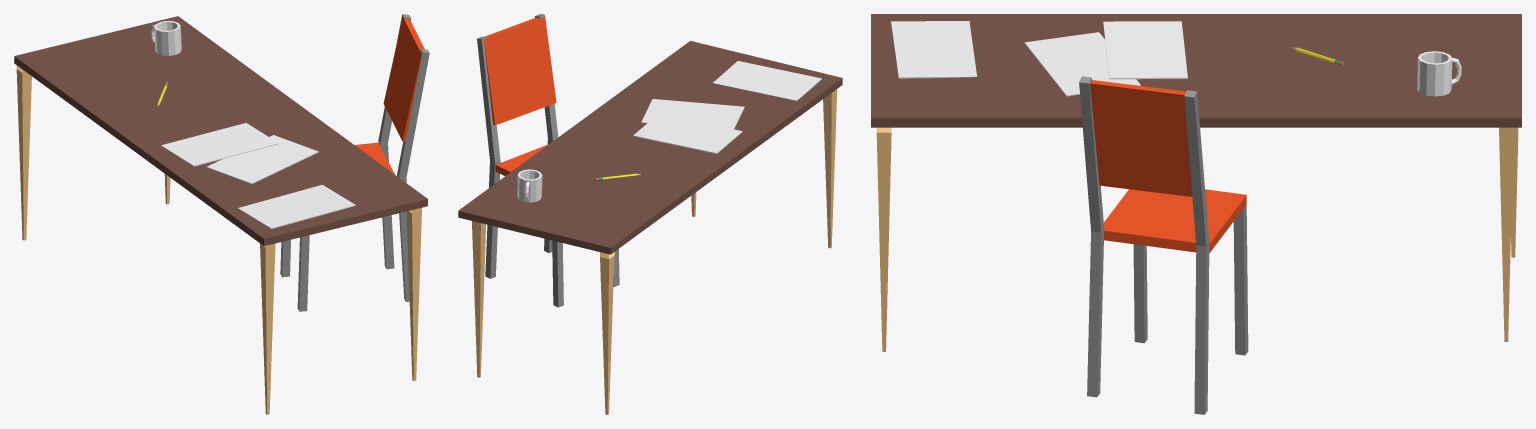
Rendered from Desk.obj.
The picture shows the model from 3 angles, left to right: view 1: azimuth 30°, elevation 25°; view 2: azimuth 150°, elevation 25°; view 3: azimuth 270°, elevation 25°; orthographic projection. The views are drawn at different scales.
Visible parts, largest first — view 1: polySurface138 polySurface6 model:Mesh; view 2: polySurface138 polySurface6 model:Mesh; view 3: polySurface138 polySurface6 model:Mesh.
Part boxes in pixels (x1,y1,x2,y2): polySurface138 polySurface6 model:Mesh: (14, 14, 429, 414); polySurface138 polySurface6 model:Mesh: (458, 14, 842, 414); polySurface138 polySurface6 model:Mesh: (871, 14, 1521, 414).
Size of the model in its own units: 0.2218 by 0.1982 by 0.356.
